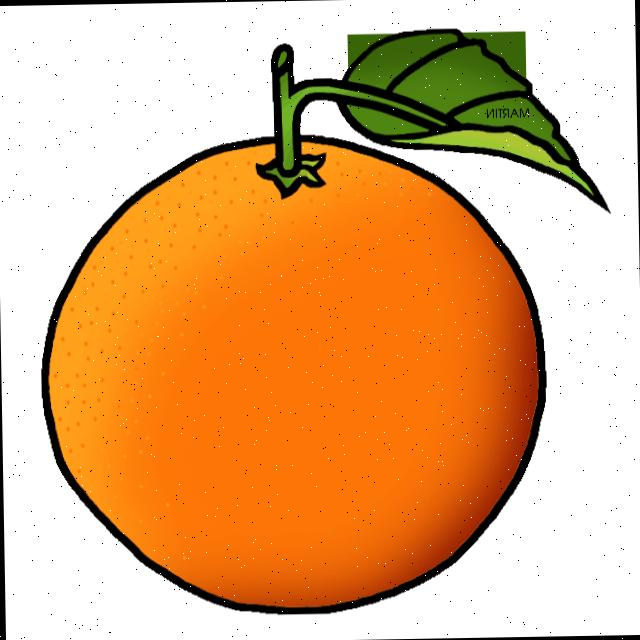Jeruk: (39, 126, 551, 618)
